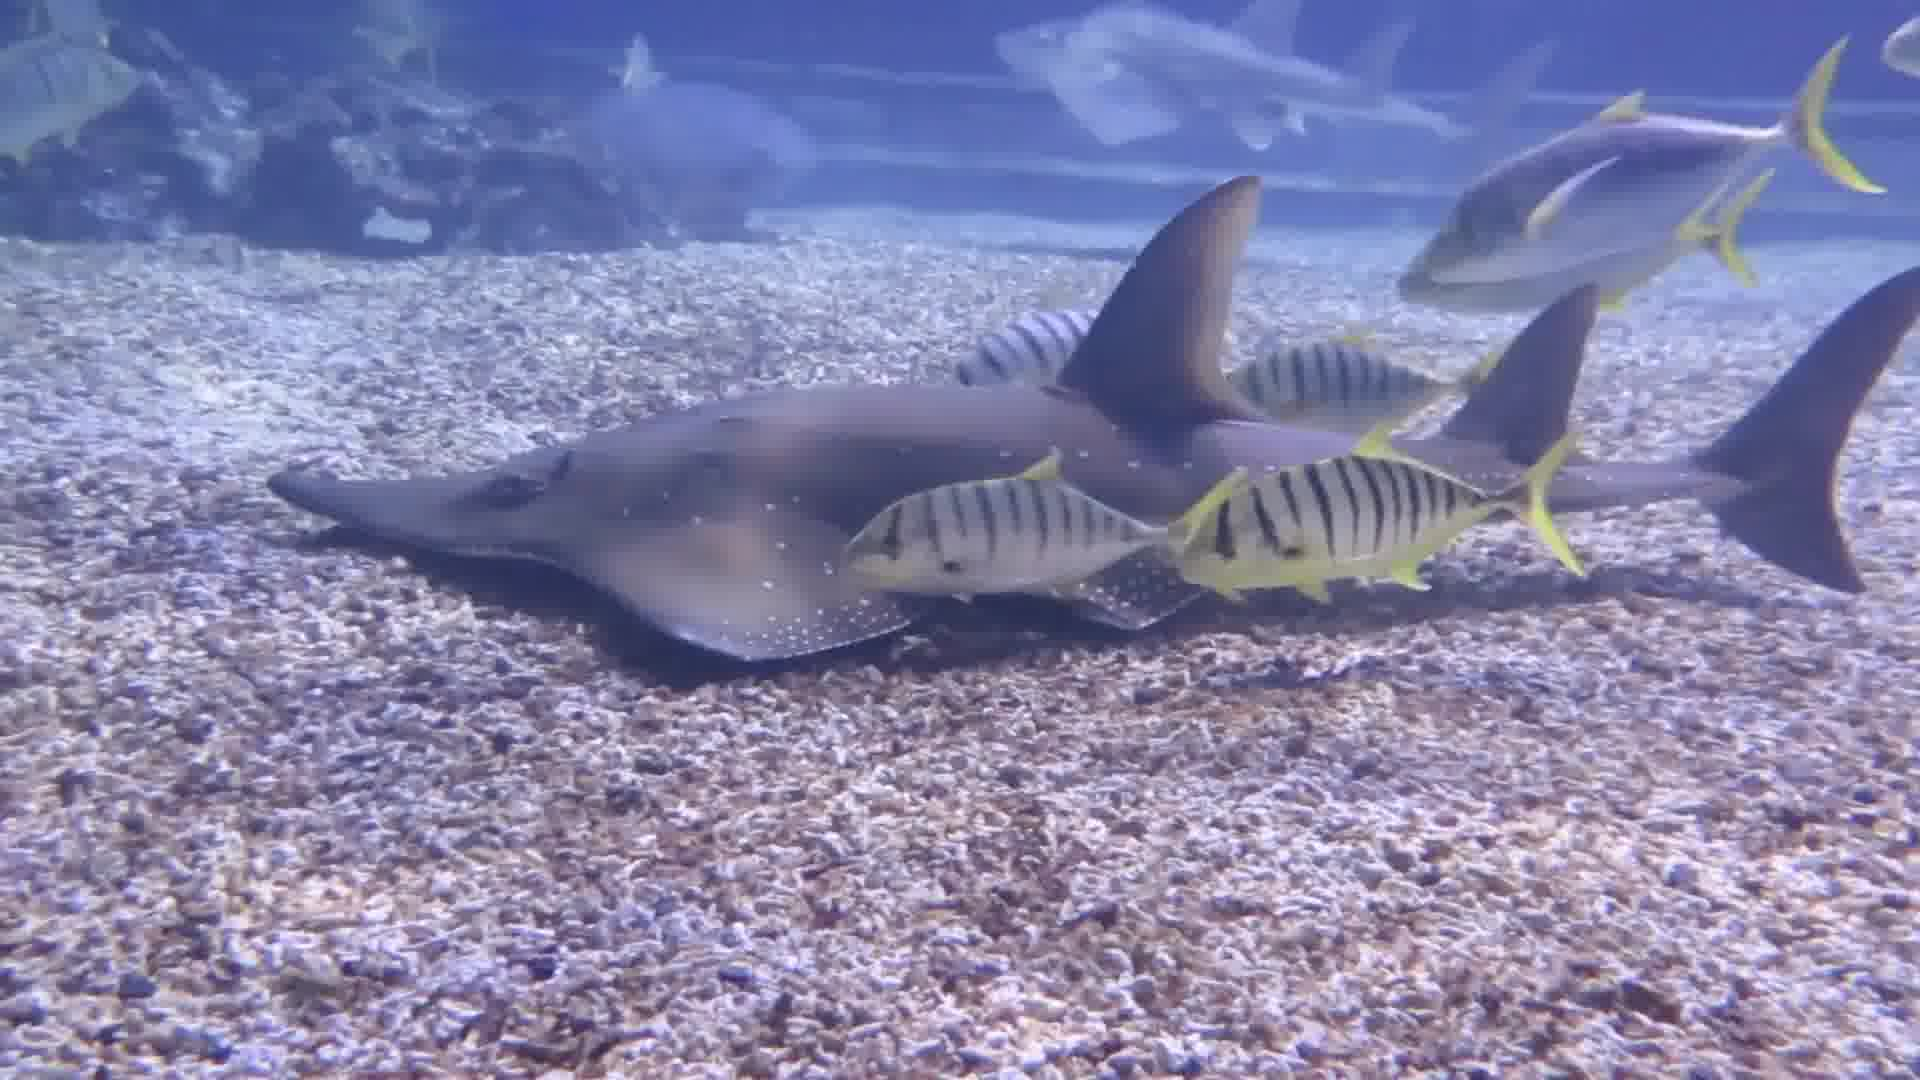Rhychobatus djiddensis: (268, 167, 1917, 647)
